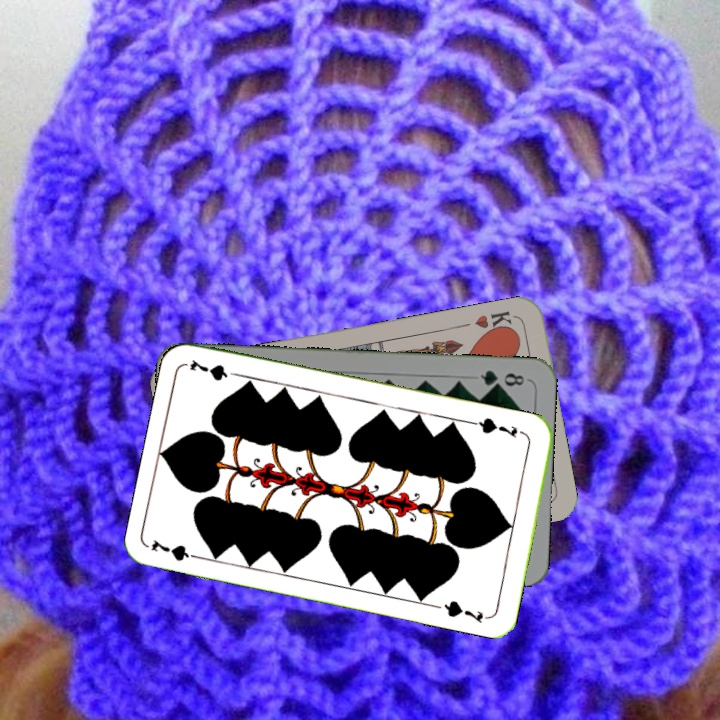G7: (147, 536, 207, 564), (470, 413, 520, 440)
G8: (476, 366, 527, 390)
HK: (471, 307, 518, 337)
